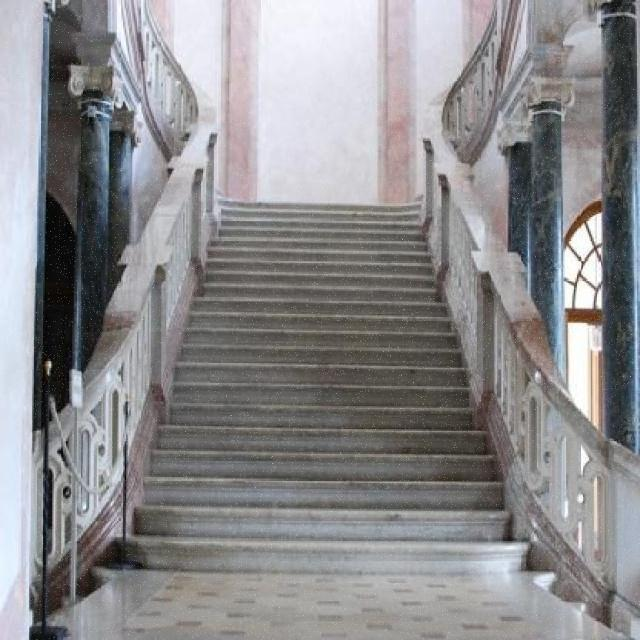stair: (120, 173, 522, 584)
